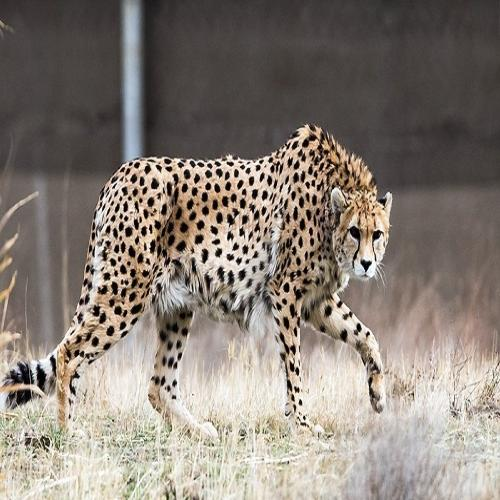cheetah-endangered: (0, 124, 396, 451)
